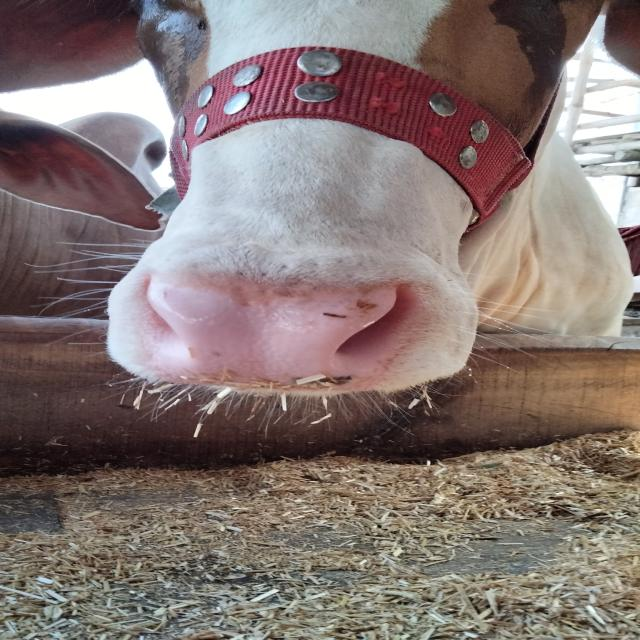muzzles: (115, 251, 438, 408)
